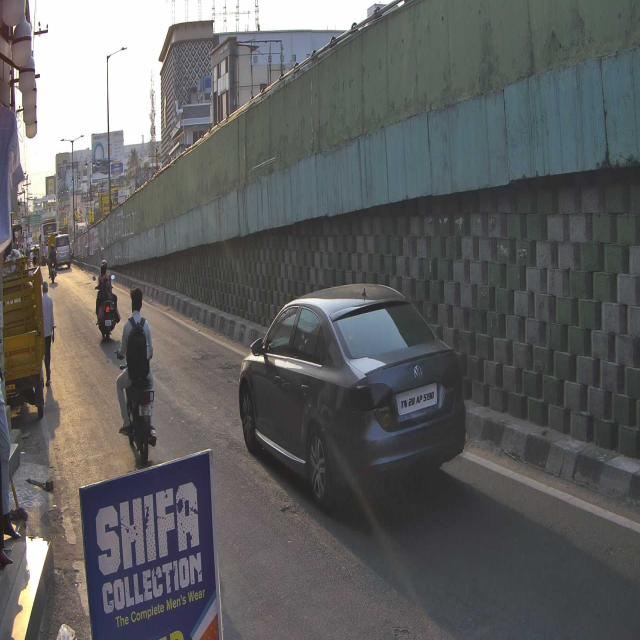single_rider: (115, 286, 158, 468)
